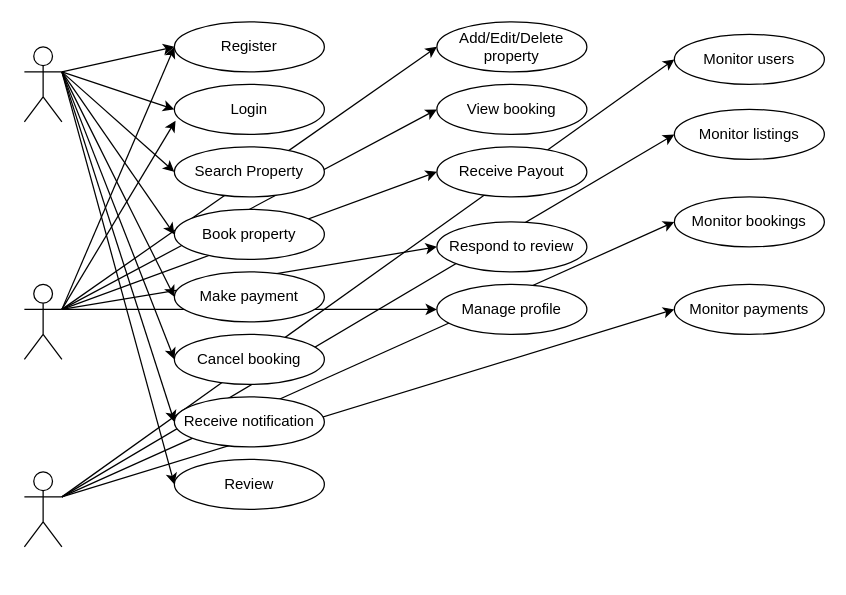
Image size: 846x595. Some labels were removed from this diagram. The shapes that lost their labels are listed below. From the top down, each one's box as (x1, y1, x2, y2) in pixels, then its label:
(23, 46, 62, 122): Guest
(23, 283, 62, 359): Host
(23, 471, 62, 547): Admin
